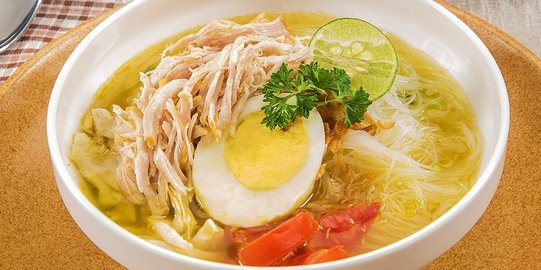soto: (79, 15, 480, 232)
